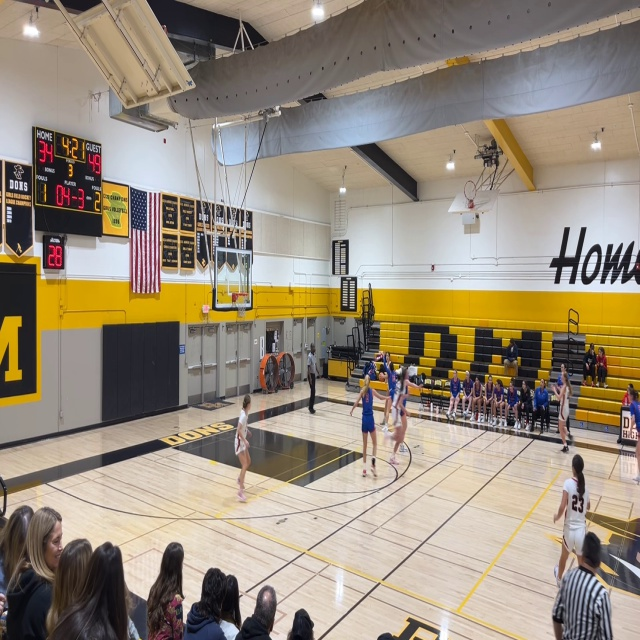Basketball: (378, 372, 387, 381)
